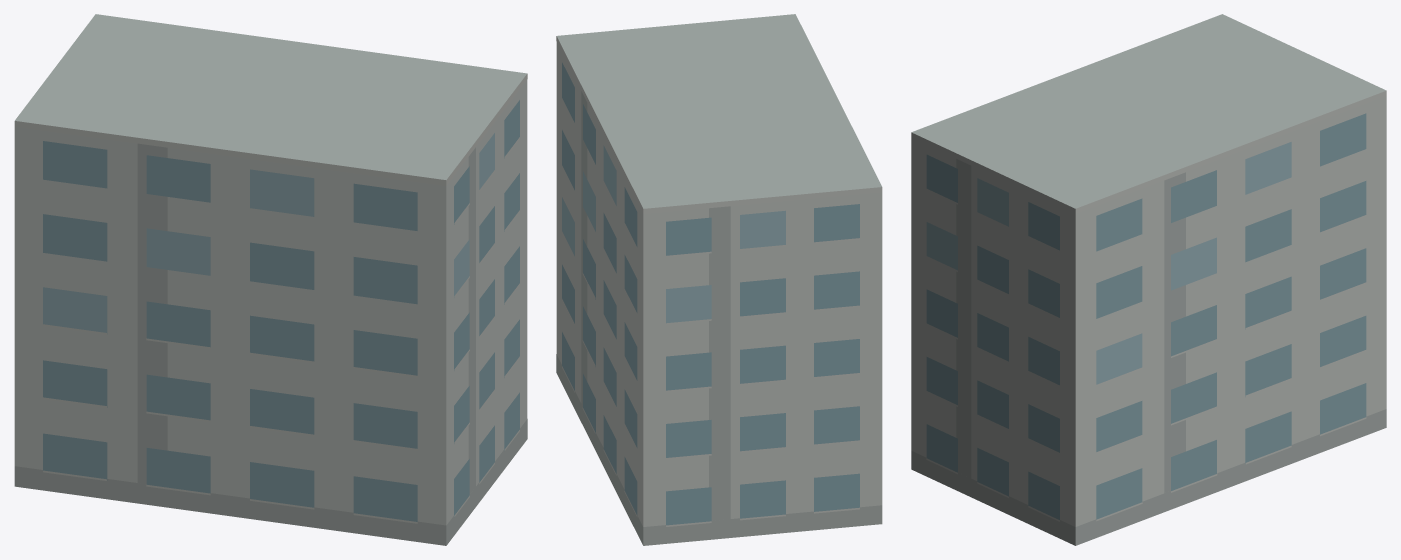
The model's file is survey-upis-32990026.glb.
The picture shows the model from 3 angles, left to right: view 1: azimuth 30°, elevation 25°; view 2: azimuth 150°, elevation 25°; view 3: azimuth 270°, elevation 25°; orthographic projection. The views are drawn at different scales.
Visible parts, largest first — view 1: survey-upis-32990026.tmp; view 2: survey-upis-32990026.tmp; view 3: survey-upis-32990026.tmp.
Part boxes in pixels (x1,y1,x2,y2): survey-upis-32990026.tmp: (14,14,527,545); survey-upis-32990026.tmp: (556,14,882,545); survey-upis-32990026.tmp: (911,14,1386,545).
Size of the model in its own units: 18.91 by 15.25 by 19.5.
